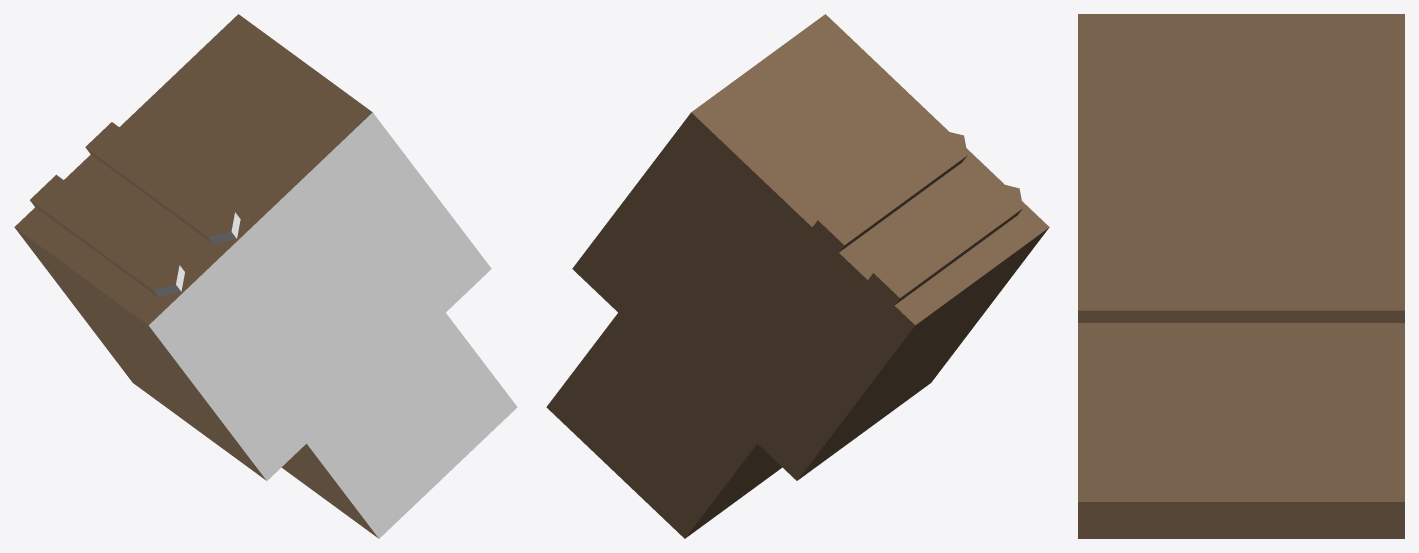
3 views of the same model, side by side, from view 1: azimuth 30°, elevation 25°; view 2: azimuth 150°, elevation 25°; view 3: azimuth 270°, elevation 25° (orthographic). The views are drawn at different scales.
Visible parts, largest first — view 1: City_PC-08777; view 2: City_PC-08777; view 3: City_PC-08777.
Part boxes in pixels (x1,y1,x2,y2): City_PC-08777: (14, 14, 517, 538); City_PC-08777: (546, 14, 1049, 538); City_PC-08777: (1078, 14, 1404, 538).
Bounding box in the file's own units: 2132 × 2364 × 1344.
